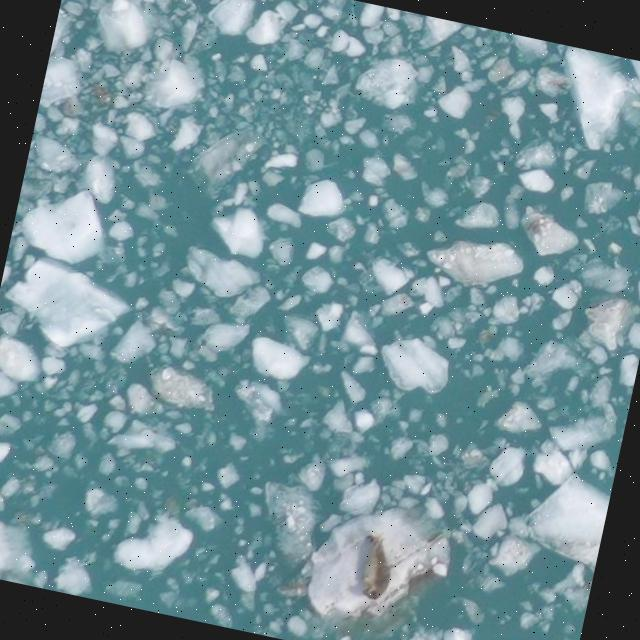seal: (361, 530, 390, 599)
